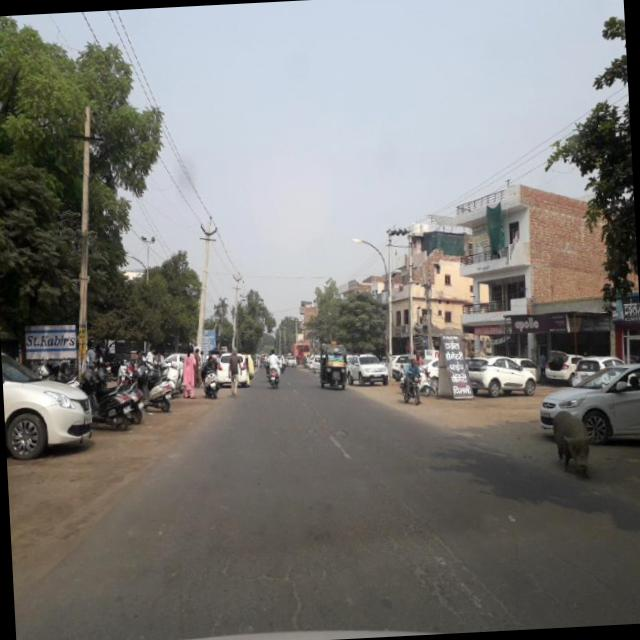pothole: (384, 486, 514, 624), (270, 554, 306, 628)
